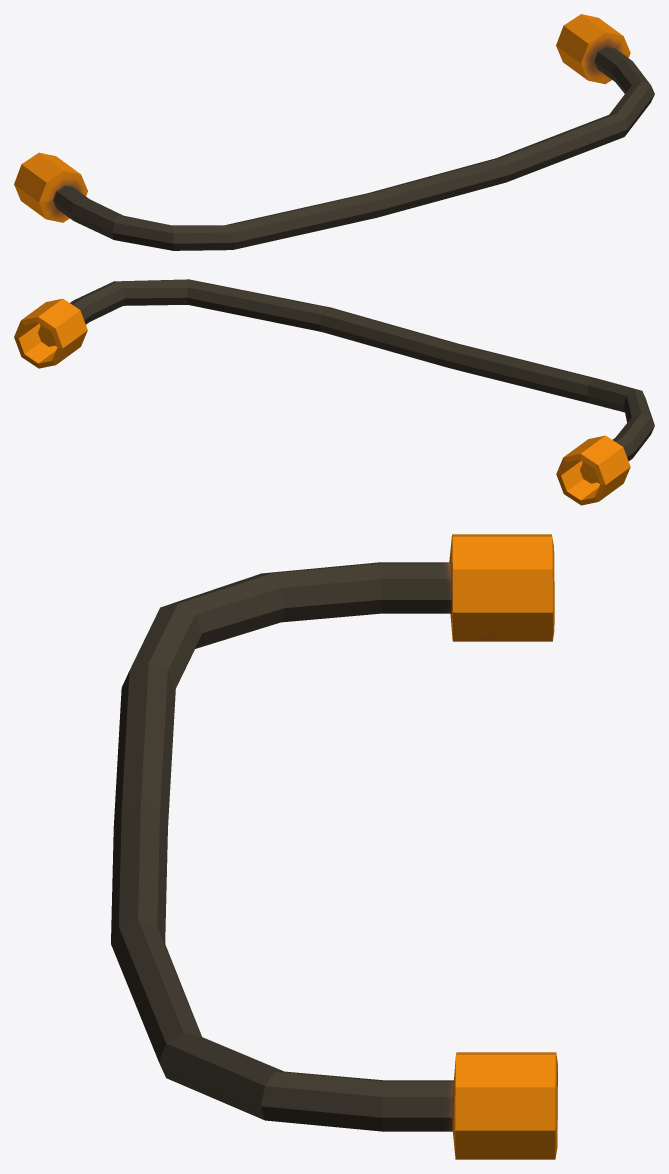
The model's file is Orange_tube.fbx.
3 views of the same model, one above another, from view 1: azimuth 30°, elevation 25°; view 2: azimuth 150°, elevation 25°; view 3: azimuth 270°, elevation 25° (orthographic). The views are drawn at different scales.
Parts seen in each view (by area): view 1: Orange_tube; view 2: Orange_tube; view 3: Orange_tube.
Part boxes in pixels (x1=…): Orange_tube: x1=14, y1=14, x2=654, y2=250; Orange_tube: x1=14, y1=279, x2=654, y2=505; Orange_tube: x1=111, y1=534, x2=557, y2=1159.
Size of the model in its own units: 6.88 by 0.6341 by 2.26.
